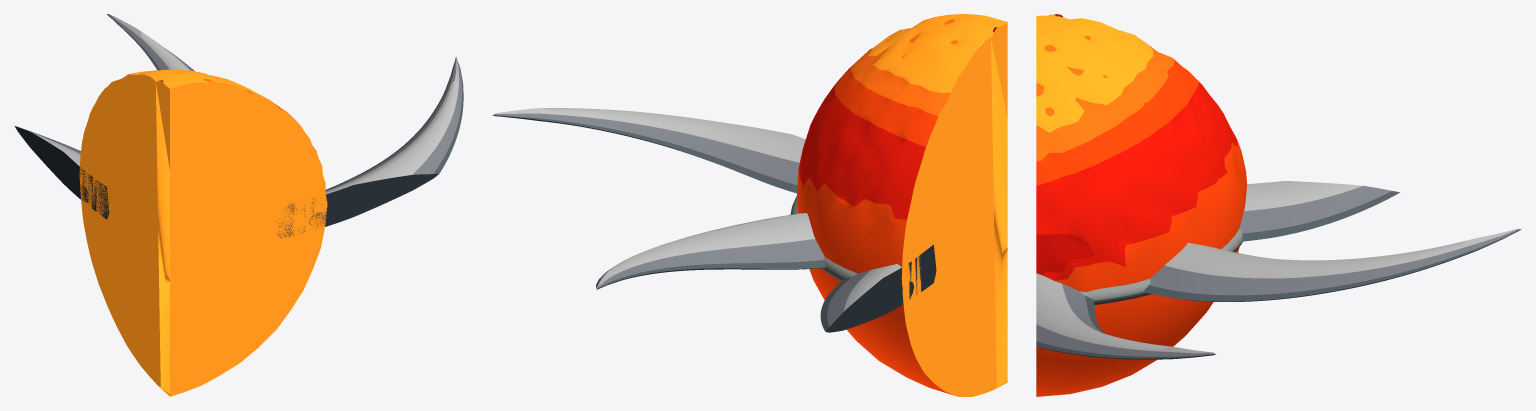
Rendered from orange_saw_84.glb.
The picture shows the model from 3 angles, left to right: view 1: azimuth 30°, elevation 25°; view 2: azimuth 150°, elevation 25°; view 3: azimuth 270°, elevation 25°; orthographic projection. The views are drawn at different scales.
Parts seen in each view (by area): view 1: orange_saw_84; view 2: orange_saw_84; view 3: orange_saw_84.
Part boxes in pixels (<box>): orange_saw_84: <box>15,14,463,396</box>; orange_saw_84: <box>492,14,1007,396</box>; orange_saw_84: <box>1036,14,1521,396</box>.
Bounding box in the file's own units: 23.19 × 18.91 × 22.93.
